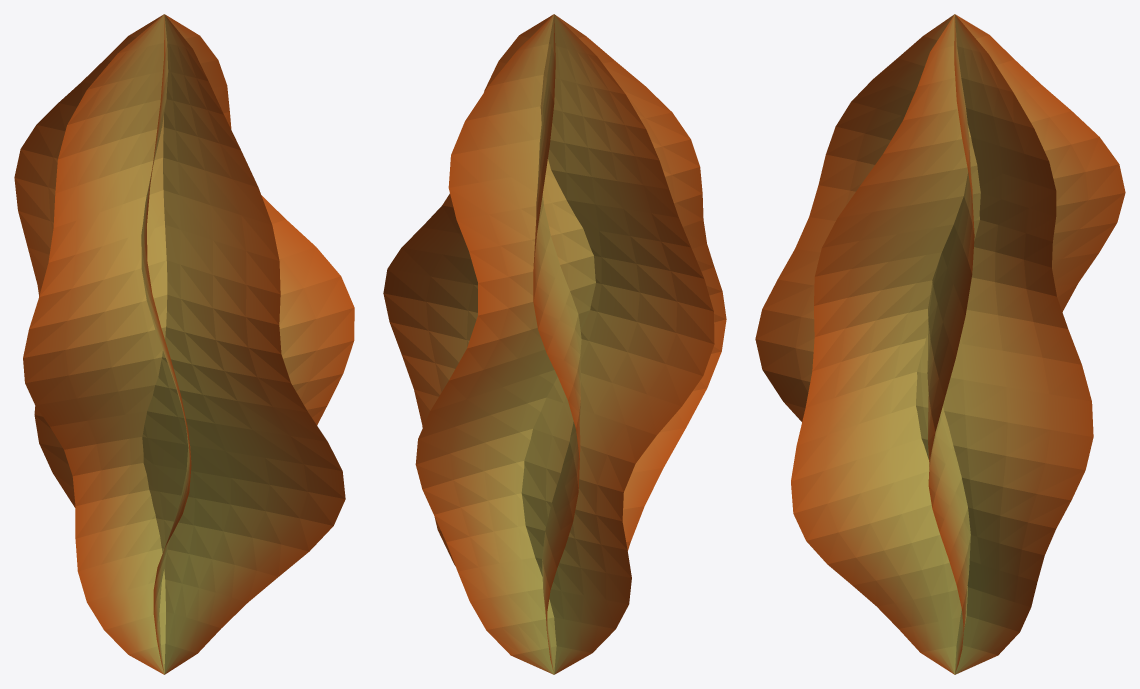
The model's file is Xiangling_GuobaState_Overall_Flame.fbx.
3 renders of one model, left to right at view 1: azimuth 30°, elevation 25°; view 2: azimuth 150°, elevation 25°; view 3: azimuth 270°, elevation 25°, orthographic.
Parts seen in each view (by area): view 1: PART_LayeredFlameTongue; view 2: PART_LayeredFlameTongue; view 3: PART_LayeredFlameTongue.
Boxes of the visible parts, x1=… form: PART_LayeredFlameTongue: x1=14, y1=14, x2=354, y2=674; PART_LayeredFlameTongue: x1=383, y1=14, x2=726, y2=674; PART_LayeredFlameTongue: x1=755, y1=14, x2=1125, y2=674.
Bounding box in the file's own units: 61.38 × 117 × 59.39.
